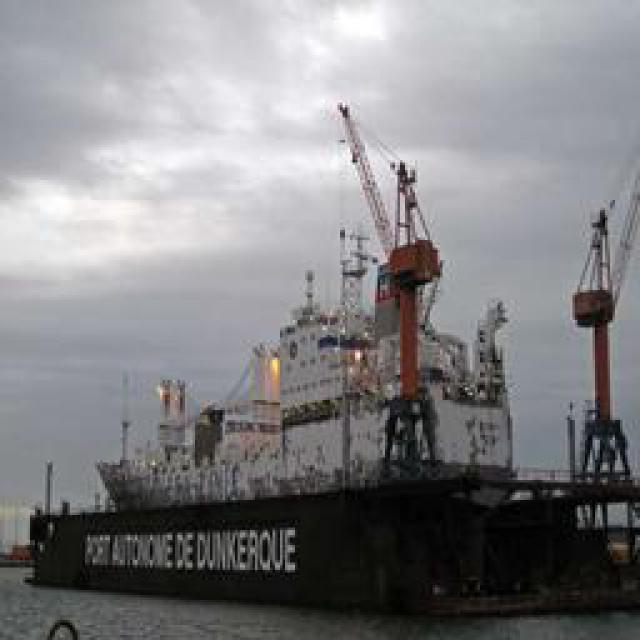Ship: (59, 97, 594, 555)
